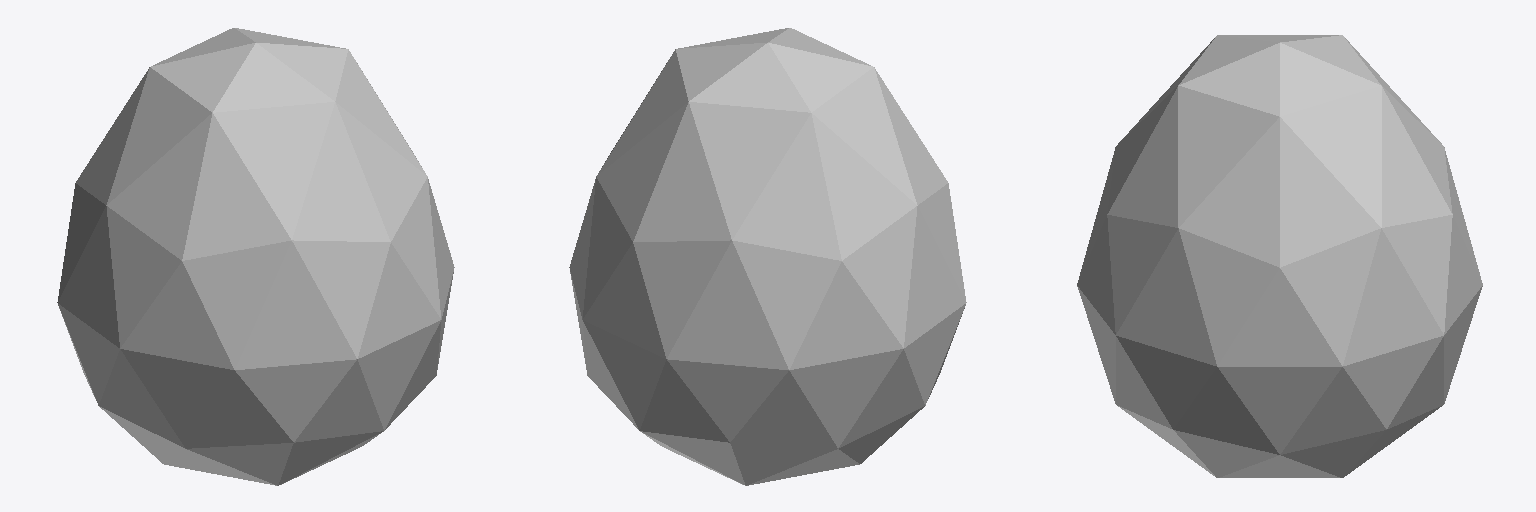
The model's file is egg.obj.
The picture shows the model from 3 angles: view 1: azimuth 30°, elevation 25°; view 2: azimuth 150°, elevation 25°; view 3: azimuth 270°, elevation 25°; orthographic projection.
Visible parts, largest first — view 1: Icosphere; view 2: Icosphere; view 3: Icosphere.
Boxes of the visible parts, <box> form: Icosphere: <box>57,28,454,485</box>; Icosphere: <box>569,28,966,485</box>; Icosphere: <box>1077,35,1482,477</box>.
Size of the model in its own units: 66.53 by 81.15 by 69.96.